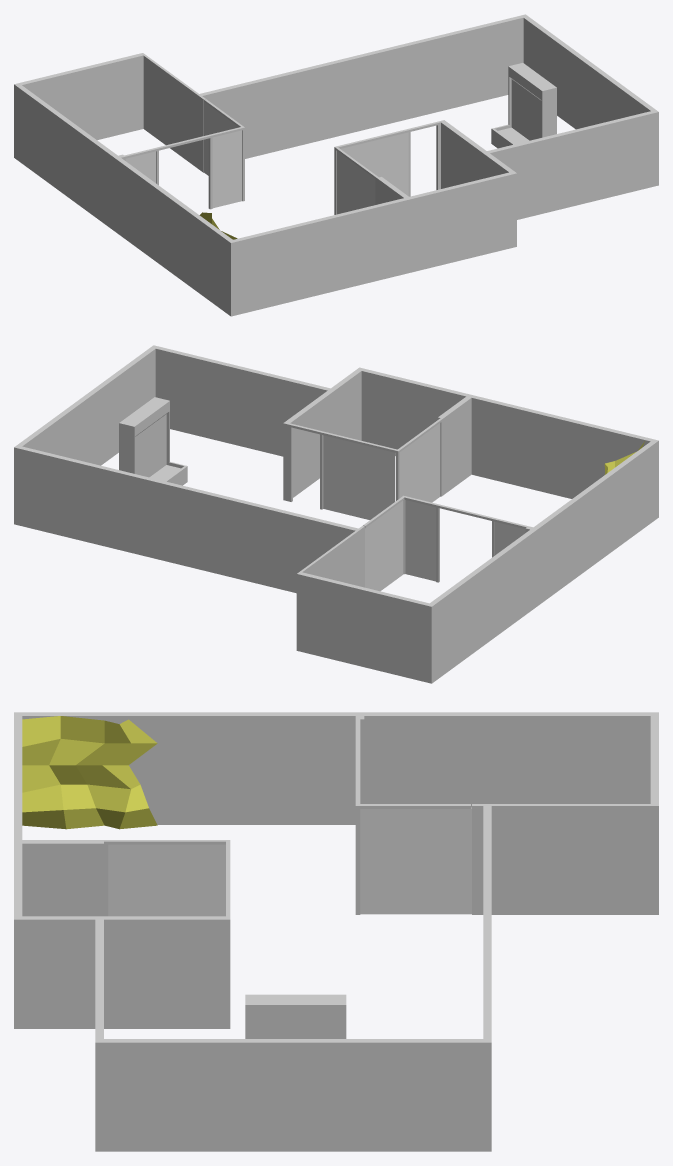
File: Office.fbx
3 renders of one model, top to bottom at view 1: azimuth 30°, elevation 25°; view 2: azimuth 150°, elevation 25°; view 3: azimuth 270°, elevation 25°, orthographic. The views are drawn at different scales.
Parts seen in each view (by area): view 1: Cube.012, Cube.005, Cube.013, Cube.001, Cube.006, Cube.002, Cube.010, Cube.015, Cube.011, Cube.014, Cube.008, Cube.041 (+7 smaller); view 2: Cube.012, Cube.005, Cube.010, Cube.013, Cube.001, Cube.002, Cube.015, Cube.006, Cube.041, Cube.008, Cube.014, Cube.043 (+8 smaller); view 3: Cube.015, Cube.002, Cube.001, Cube.008, Cube.011, Plane.005, Cube.043, Cube.021, Cube.007, Cube.014, Cube.012, Cube.010 (+6 smaller).
Part boxes in pixels (left/top/right/bottom): Cube.012: left=199, top=15, right=523, bottom=158; Cube.005: left=233, top=198, right=406, bottom=315; Cube.013: left=487, top=111, right=653, bottom=219; Cube.001: left=116, top=158, right=235, bottom=316; Cube.006: left=409, top=171, right=516, bottom=272; Cube.002: left=17, top=85, right=117, bottom=229; Cube.010: left=14, top=53, right=145, bottom=159; Cube.015: left=521, top=14, right=658, bottom=186; Cube.011: left=143, top=55, right=205, bottom=172; Cube.014: left=491, top=63, right=556, bottom=148; Cube.008: left=441, top=121, right=513, bottom=188; Cube.041: left=341, top=132, right=408, bottom=195; Cube.012: left=19, top=446, right=358, bottom=593; Cube.005: left=471, top=395, right=653, bottom=498; Cube.010: left=296, top=572, right=434, bottom=683; Cube.013: left=155, top=346, right=330, bottom=456; Cube.001: left=534, top=439, right=658, bottom=604; Cube.002: left=430, top=529, right=535, bottom=681; Cube.015: left=14, top=345, right=158, bottom=525; Cube.006: left=357, top=367, right=468, bottom=455; Cube.041: left=323, top=435, right=395, bottom=519; Cube.008: left=285, top=369, right=361, bottom=497; Cube.014: left=119, top=397, right=187, bottom=485; Cube.043: left=365, top=500, right=403, bottom=591; Cube.015: left=95, top=1039, right=491, bottom=1151; Cube.002: left=364, top=712, right=650, bottom=807; Cube.001: left=14, top=712, right=355, bottom=824; Cube.008: left=22, top=916, right=225, bottom=1028; Cube.011: left=472, top=804, right=650, bottom=914; Plane.005: left=22, top=716, right=157, bottom=829; Cube.043: left=360, top=807, right=471, bottom=914; Cube.021: left=108, top=844, right=225, bottom=916; Cube.007: left=14, top=840, right=103, bottom=916; Cube.014: left=245, top=994, right=346, bottom=1038; Cube.012: left=483, top=806, right=491, bottom=1038; Cube.010: left=650, top=712, right=658, bottom=914.
Bounding box in the file's own units: 2594 × 400 × 2141.
